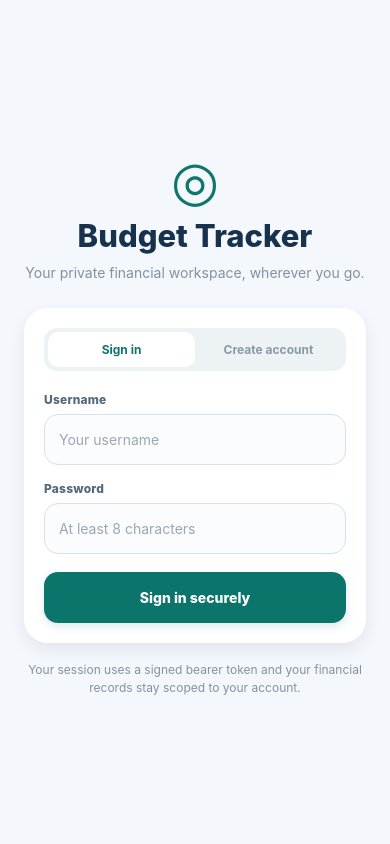
Test case: mobile app › boots to the sign-in form and displays sign-up fields when selected
Expected: the text "Budget Tracker" is shown, [78,217,312,254]
Expected: the field with placeholder "Your username" is shown, [44,414,346,465]
Click the text "Create account": (268, 350) [224,342,313,357]
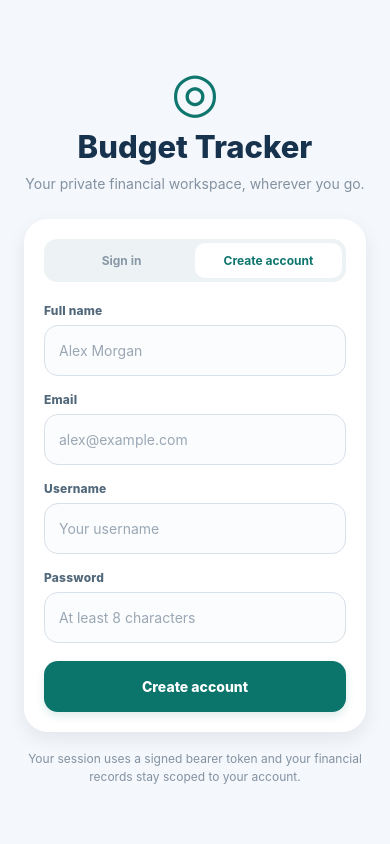
Expected: the field with placeholder "Alex Morgan" is shown, [44,325,346,376]
Expected: the field with placeholder "alex@example.com" is shown, [44,414,346,465]
